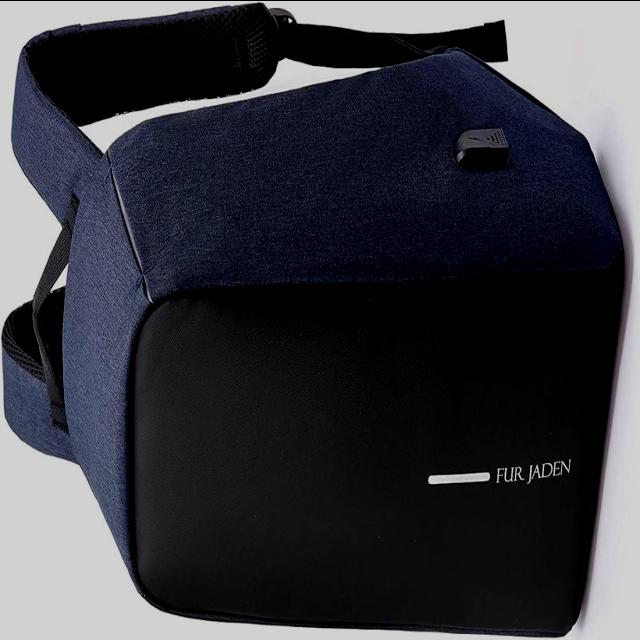backpack: (2, 6, 625, 638)
